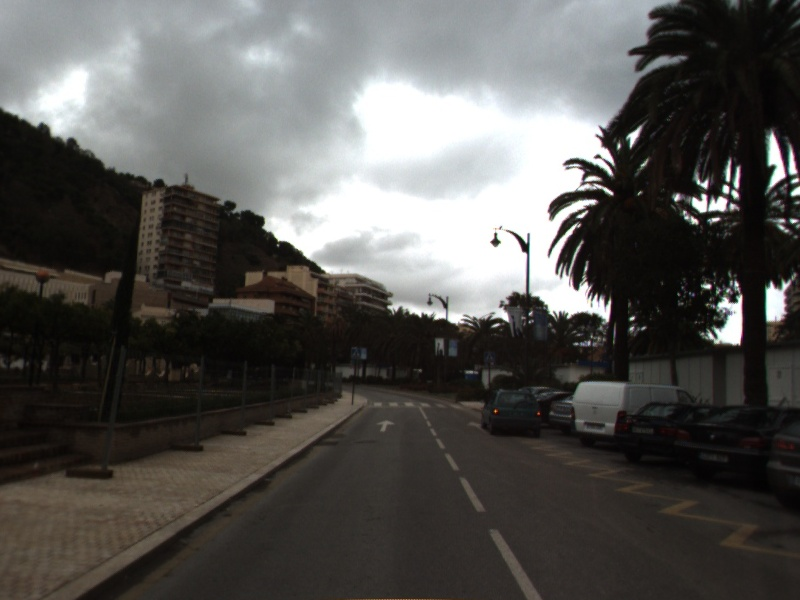STRAIGHT: (465, 420, 492, 436), (374, 418, 397, 434)
